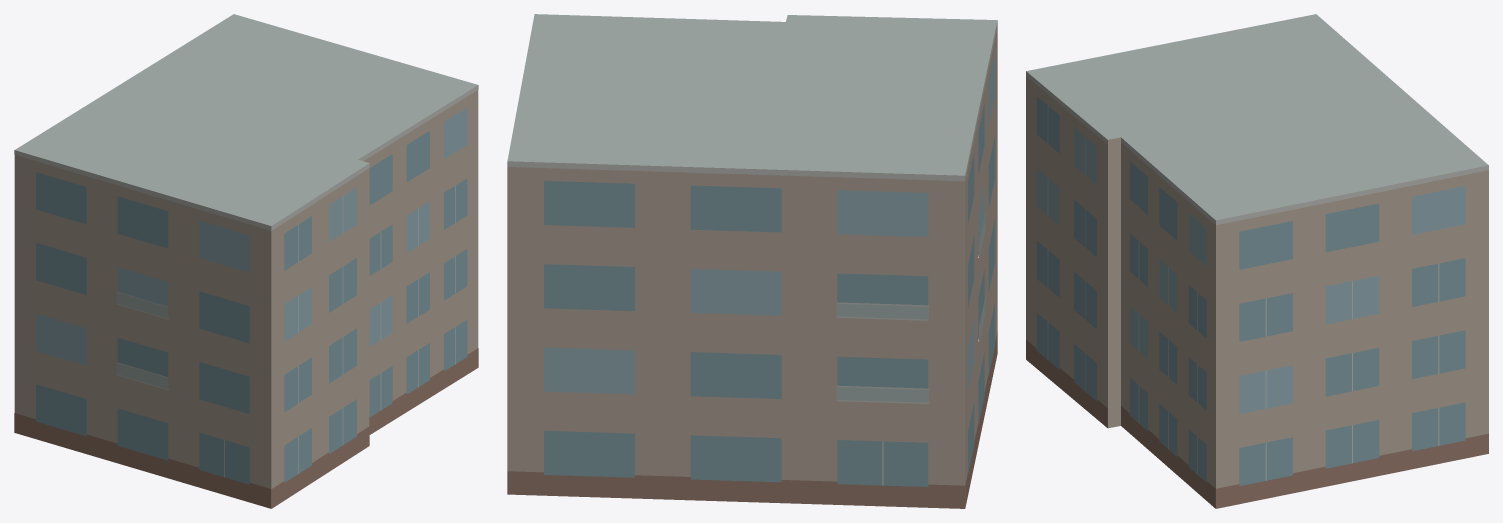
File: survey-upis-32916168.glb
3 renders of one model, left to right at view 1: azimuth 30°, elevation 25°; view 2: azimuth 150°, elevation 25°; view 3: azimuth 270°, elevation 25°, orthographic. The views are drawn at different scales.
Visible parts, largest first — view 1: survey-upis-32916168.tmp; view 2: survey-upis-32916168.tmp; view 3: survey-upis-32916168.tmp.
Part boxes in pixels (x1=…): survey-upis-32916168.tmp: x1=14, y1=14, x2=478, y2=508; survey-upis-32916168.tmp: x1=507, y1=14, x2=997, y2=508; survey-upis-32916168.tmp: x1=1026, y1=14, x2=1488, y2=508.
Bounding box in the file's own units: 22.26 × 14.49 × 21.09.
